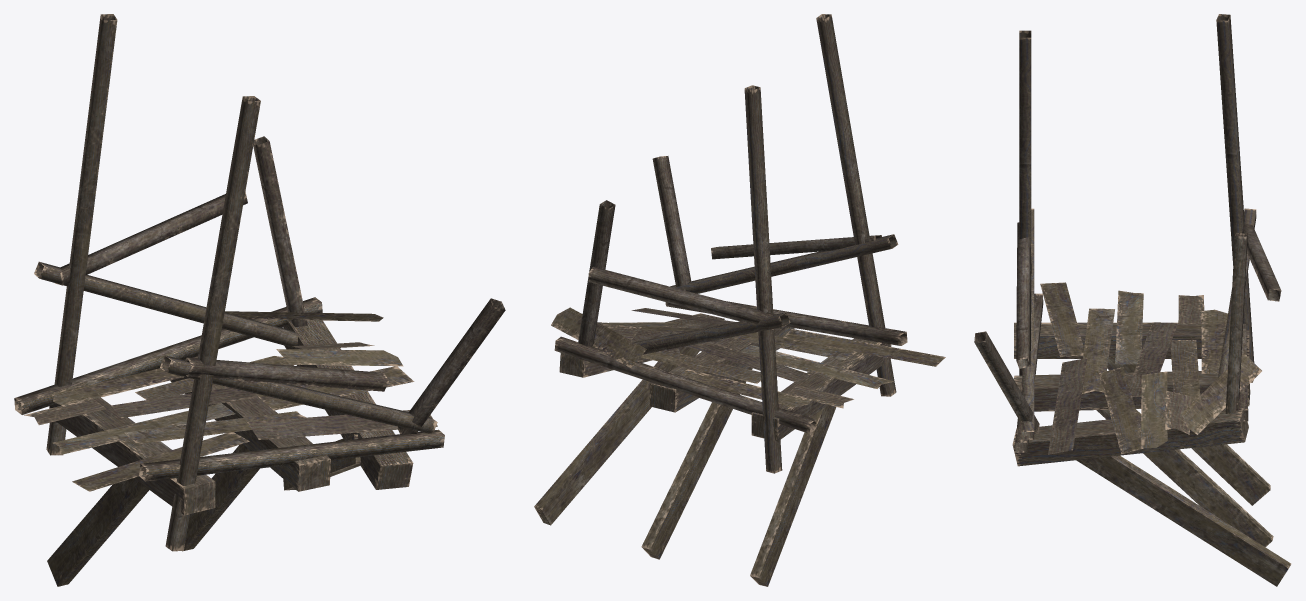
Rendered from Scaffolding_WallmountedBroken.fbx.
3 renders of one model, left to right at view 1: azimuth 30°, elevation 25°; view 2: azimuth 150°, elevation 25°; view 3: azimuth 270°, elevation 25°, orthographic. The views are drawn at different scales.
Parts seen in each view (by area): view 1: CDTMesh_Scaffolding_WallmountedBroken_LOD; view 2: CDTMesh_Scaffolding_WallmountedBroken_LOD; view 3: CDTMesh_Scaffolding_WallmountedBroken_LOD.
Boxes of the visible parts, x1,y1,x2,y2 form: CDTMesh_Scaffolding_WallmountedBroken_LOD: (14,14,505,586); CDTMesh_Scaffolding_WallmountedBroken_LOD: (534,14,945,586); CDTMesh_Scaffolding_WallmountedBroken_LOD: (974,14,1291,586).
Size of what is drawn, in the model's own units: 6.77 by 9.68 by 5.57.
